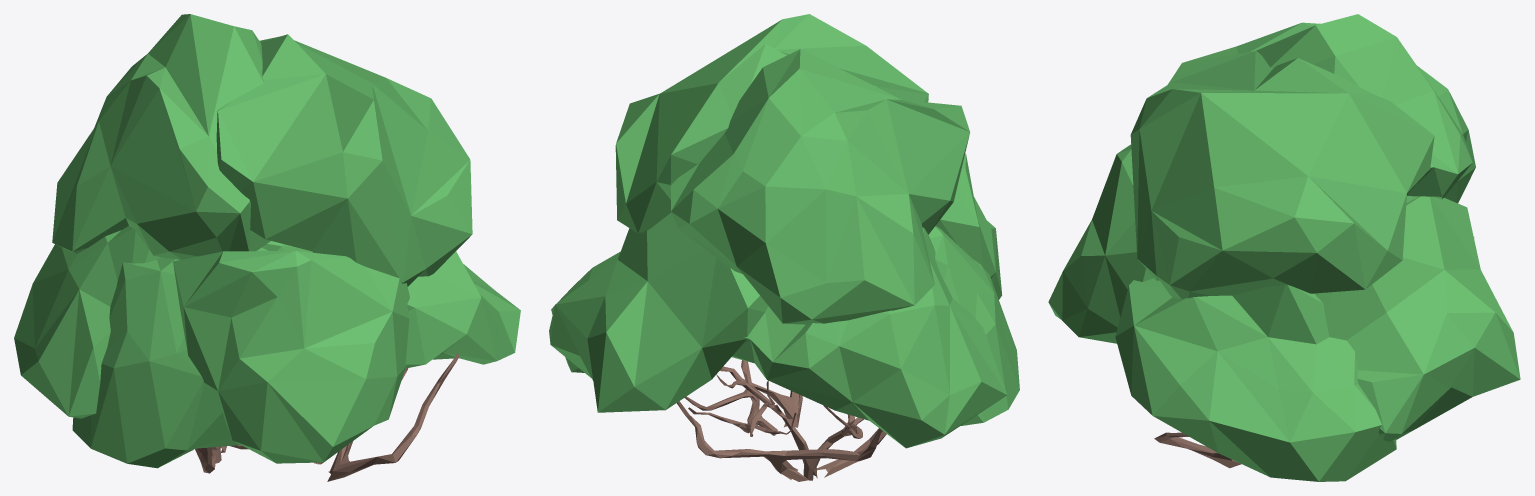
The model's file is Tree_062.glb.
The picture shows the model from 3 angles, left to right: view 1: azimuth 30°, elevation 25°; view 2: azimuth 150°, elevation 25°; view 3: azimuth 270°, elevation 25°; orthographic projection. The views are drawn at different scales.
Visible parts, largest first — view 1: Tree_062; view 2: Tree_062; view 3: Tree_062.
Boxes of the visible parts, x1,y1,x2,y2 form: Tree_062: [14, 14, 520, 481]; Tree_062: [549, 14, 1019, 481]; Tree_062: [1048, 14, 1520, 481].
Size of the model in its own units: 4.53 by 4.3 by 4.41.
1 material, 1 textured.
